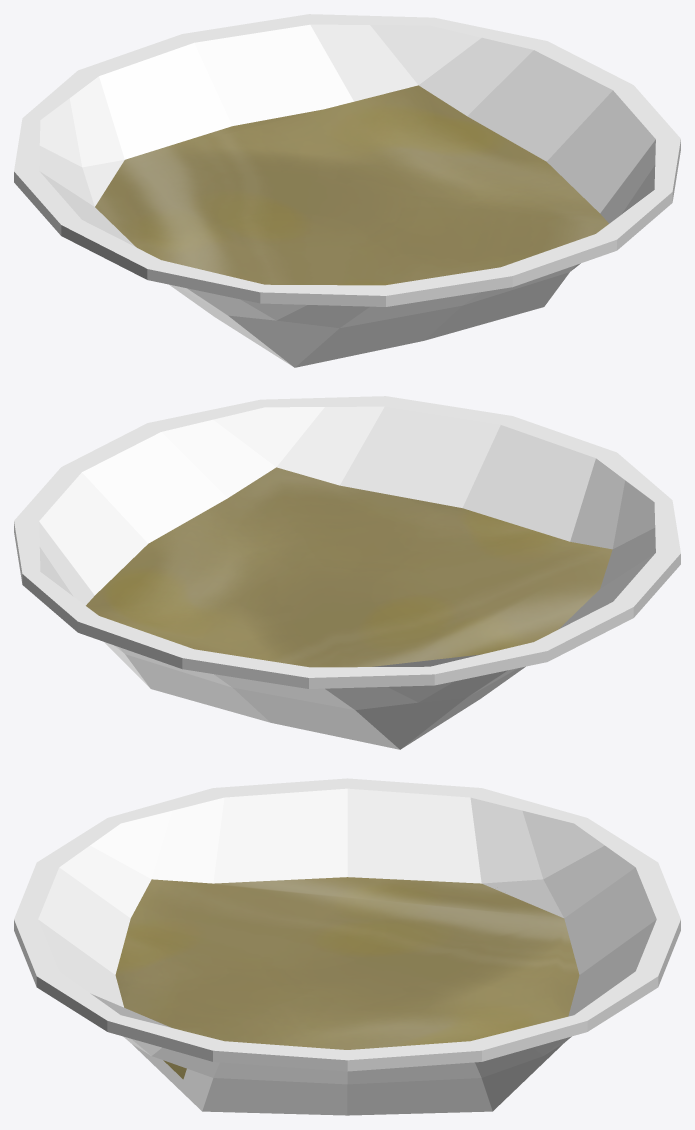
File: Bubur.fbx
3 views of the same model, one above another, from view 1: azimuth 30°, elevation 25°; view 2: azimuth 150°, elevation 25°; view 3: azimuth 270°, elevation 25° (orthographic).
Parts seen in each view (by area): view 1: Bubur; view 2: Bubur; view 3: Bubur.
Boxes of the visible parts, <box> form: Bubur: <box>14,14,680,367</box>; Bubur: <box>14,396,680,749</box>; Bubur: <box>14,778,680,1115</box>.
Size of the model in its own units: 34.67 by 7.5 by 34.67.
